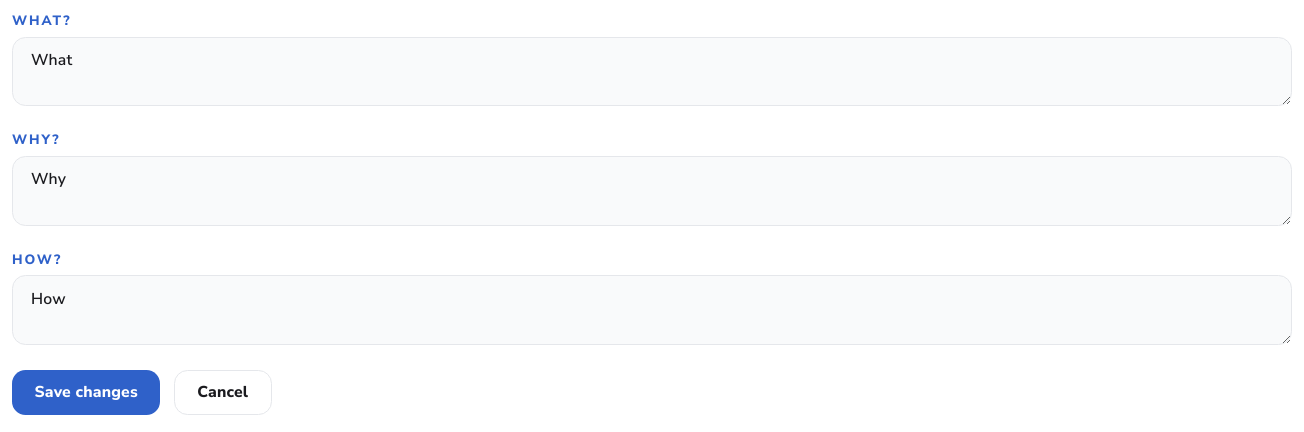
it: NotebookEntryEditForm › disables save when why is empty
The image size is (1304, 432).
Clear the text box labelled "Why?": point(652, 191) [12,156,1292,226]
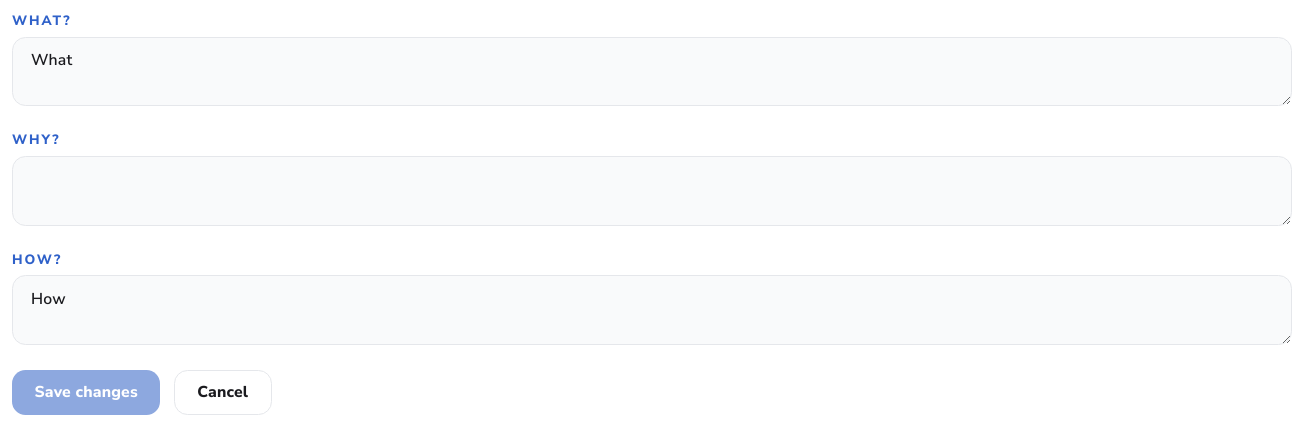
Check: the button "Save changes" is disabled, box [12,370,160,415]
